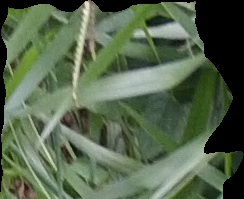grass: (1, 1, 242, 196)
